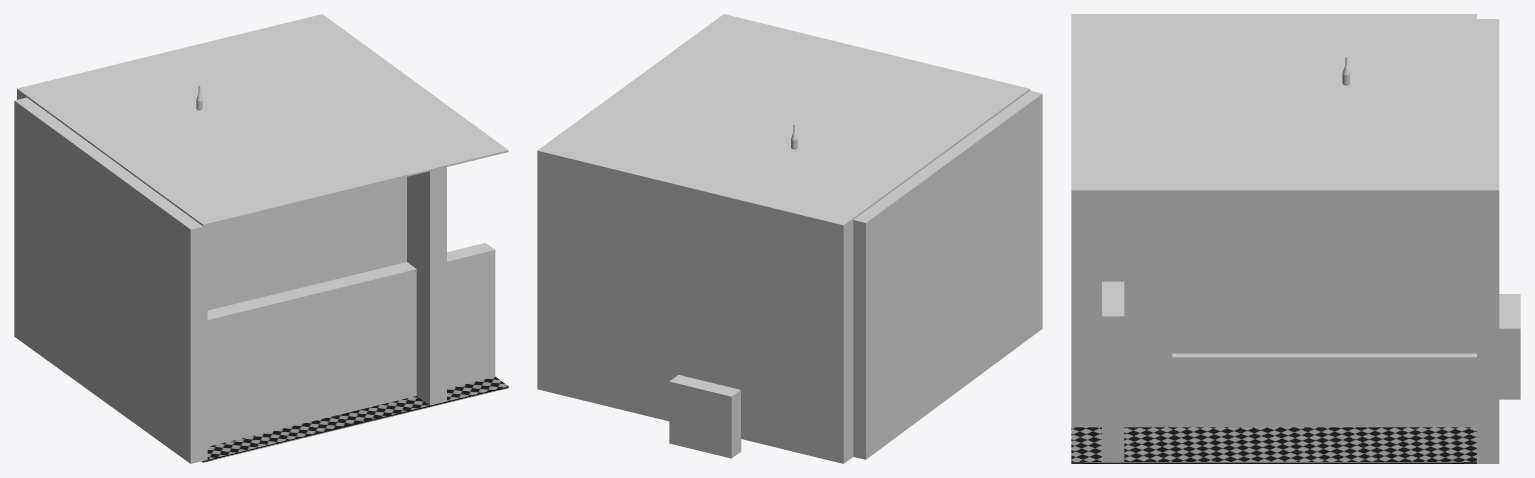
File: map2.glb
3 renders of one model, left to right at view 1: azimuth 30°, elevation 25°; view 2: azimuth 150°, elevation 25°; view 3: azimuth 270°, elevation 25°, orthographic. The views are drawn at different scales.
Visible parts, largest first — view 1: Cube.009, Cube.002, Cube.007, Cube.010, Cube.008, floor, Cube.006; view 2: Cube.006, Cube.009, Cube.002, Cube.051; view 3: Cube.008, Cube.009, floor, Cube.006, Cube.007, Cube.004, Cube.051, Cube.002.
Part boxes in pixels (<box>): Cube.009: <box>26,21,508,226</box>; Cube.002: <box>14,97,207,463</box>; Cube.007: <box>207,243,495,446</box>; Cube.010: <box>207,177,406,310</box>; Cube.008: <box>407,167,446,405</box>; floor: <box>202,376,508,462</box>; Cube.006: <box>17,14,331,99</box>; Cube.006: <box>537,143,853,463</box>; Cube.009: <box>547,14,1030,219</box>; Cube.002: <box>853,90,1042,459</box>; Cube.051: <box>669,375,741,458</box>; Cube.008: <box>1071,192,1476,427</box>; Cube.009: <box>1071,19,1476,192</box>; floor: <box>1071,427,1476,463</box>; Cube.006: <box>1477,19,1499,463</box>; Cube.007: <box>1102,281,1124,462</box>; Cube.004: <box>1172,353,1476,365</box>; Cube.051: <box>1499,294,1520,399</box>; Cube.002: <box>1071,14,1476,18</box>.
Bounding box in the file's own units: 37.64 × 31.04 × 40.06.
Materials: 1 (1 with a texture image).
